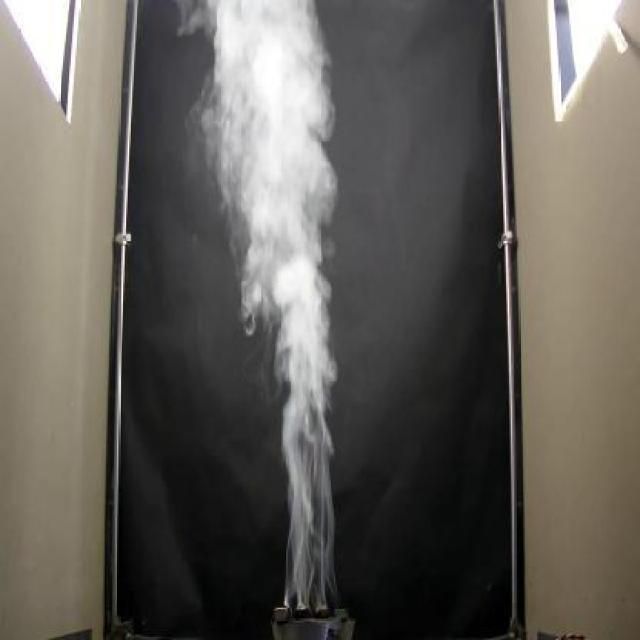fire: (200, 0, 346, 589)
